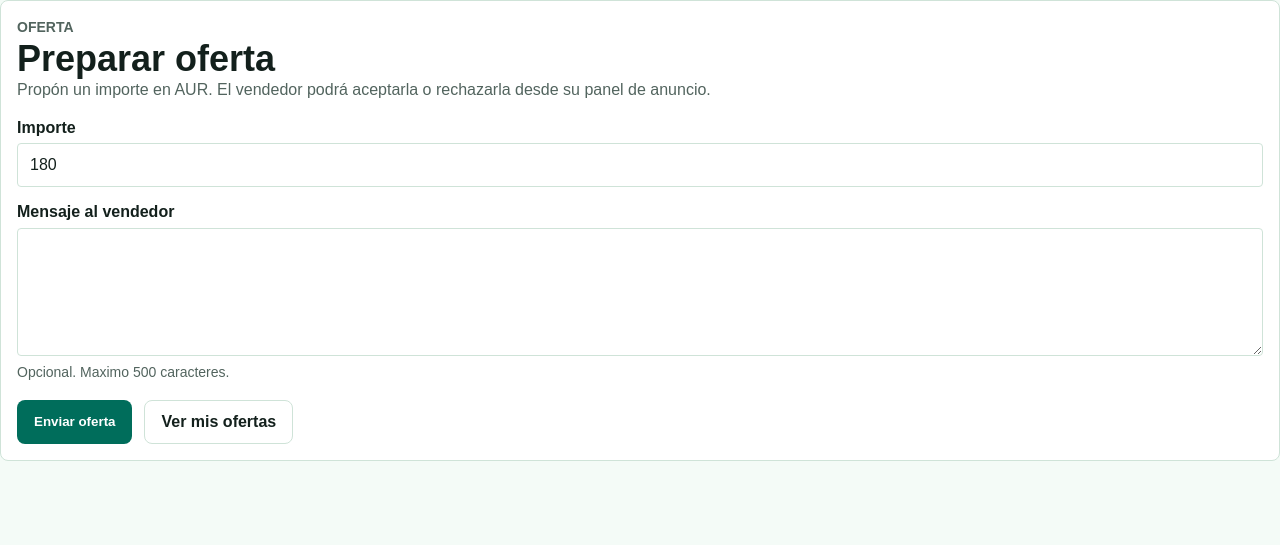
Test: OfferForm › creates an offer with the authenticated access token
Replace the text in the number field labelled "Importe" with "210" at (640, 166), box [17, 144, 1263, 188]
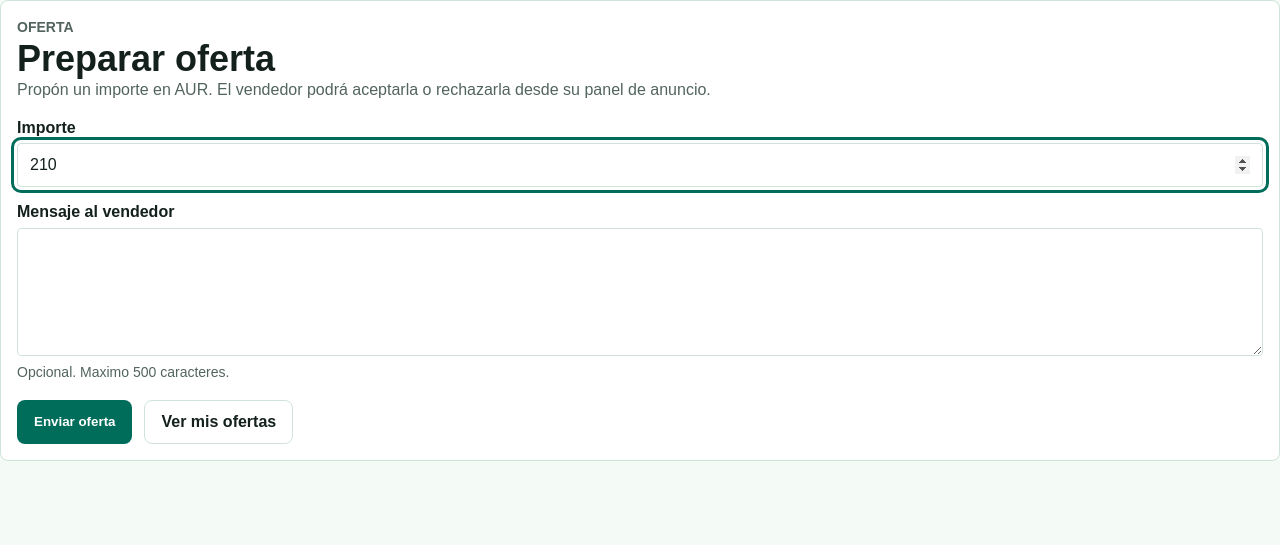
Type "Incluyo transporte por portal estable." into the text box labelled "Mensaje al vendedor" at (640, 292), box [17, 228, 1263, 356]
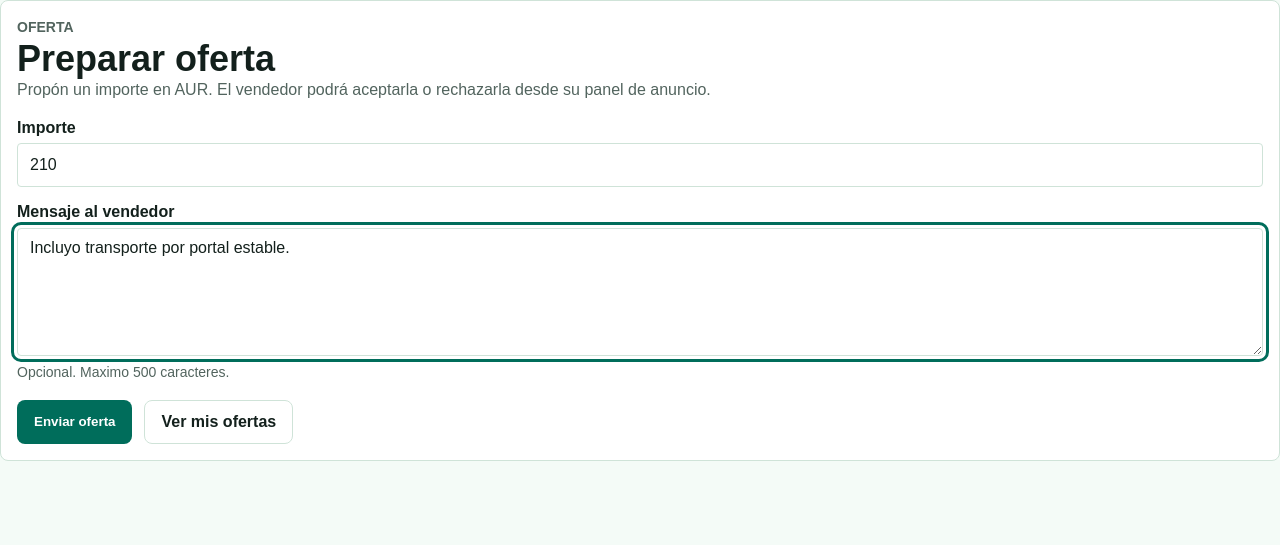
Click the button "Enviar oferta" at (75, 422), box [17, 400, 132, 444]
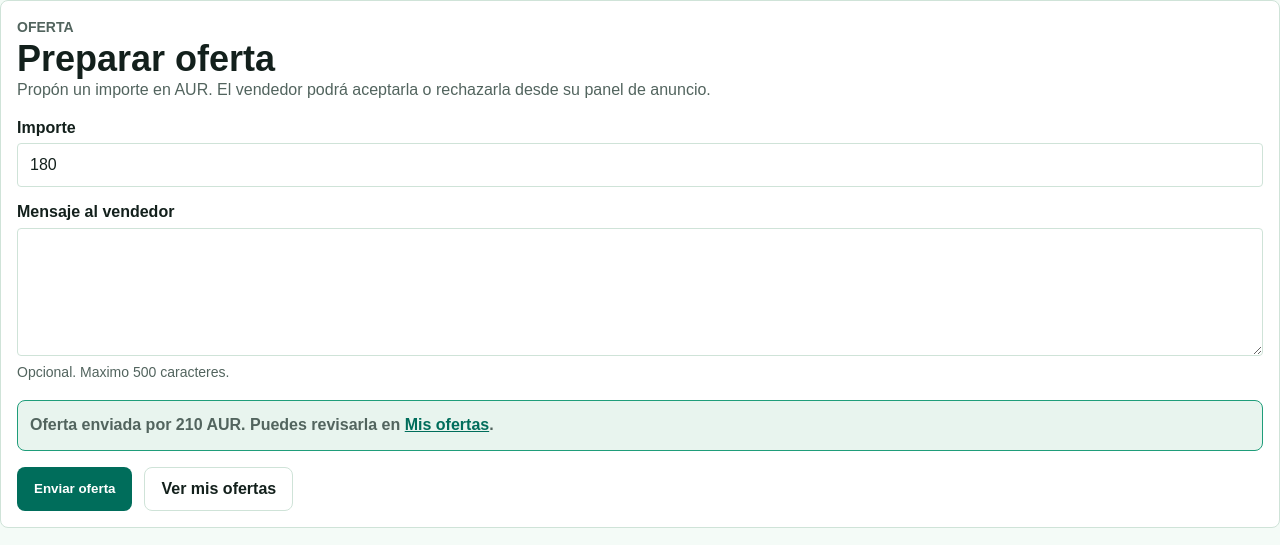
Result: the text "Oferta enviada por 210 AUR" is shown at [17, 400, 1263, 451]
